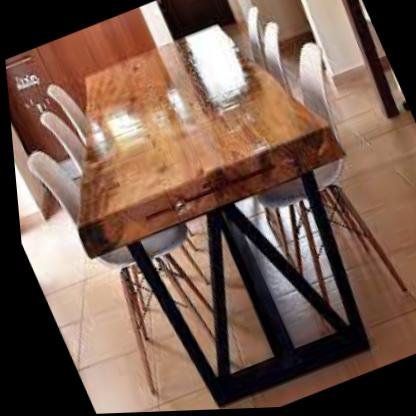Ceramic floor: (226, 65, 416, 410), (40, 261, 208, 414)
Dining Table: (0, 0, 416, 416)
